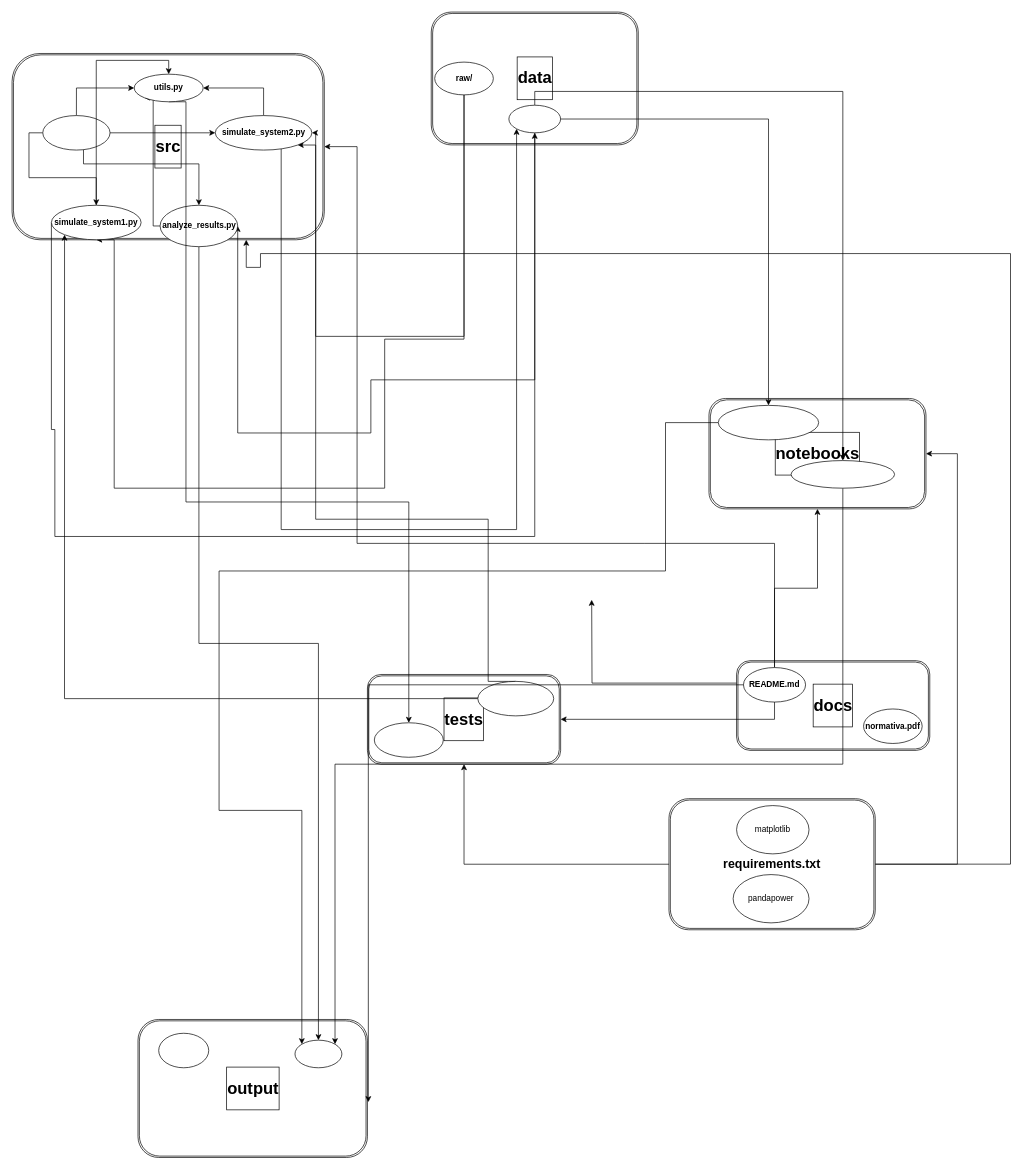
This 1028x1170 diagram has some shape labels left out. The centre of each missing label's shape, as x and y in pixels:
"main.py" goes at (x=76, y=132).
"plots" goes at (x=318, y=1053).
"processed/" goes at (x=534, y=119).
"results" goes at (x=183, y=1050).
"system1_analysis.ipynb" goes at (x=768, y=422).
"system2_analysis.ipynb" goes at (x=842, y=474).
"test_simulation.py" goes at (x=515, y=698).
"test_utils.py" goes at (x=408, y=739).
